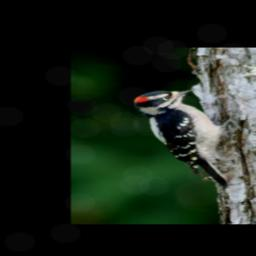Woodpecker: (130, 87, 237, 191)
